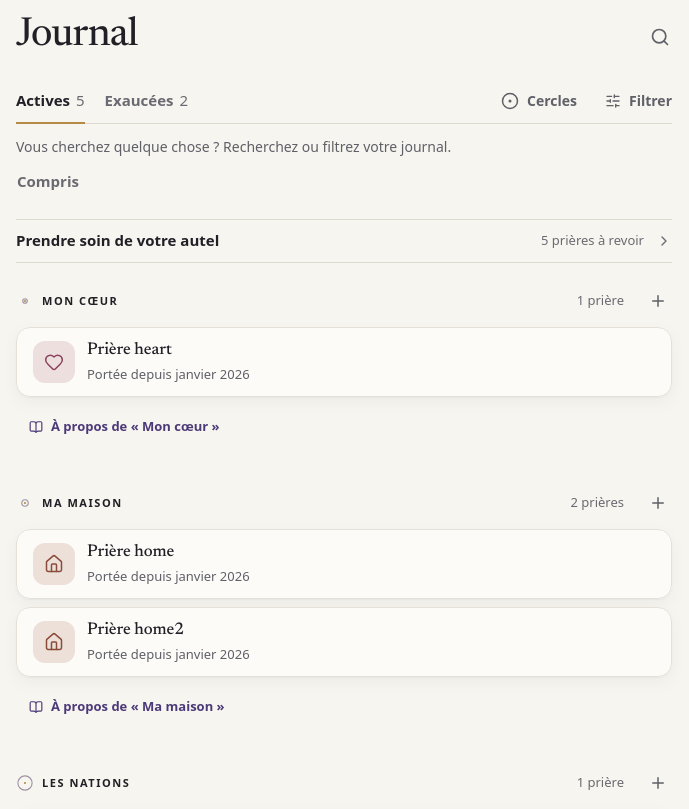
Scenario: PrayersTab — By circle › remembers where an answered prayer and its testimony belonged
Click the button "Exaucées2" at (146, 102), box [105,80,188,124]
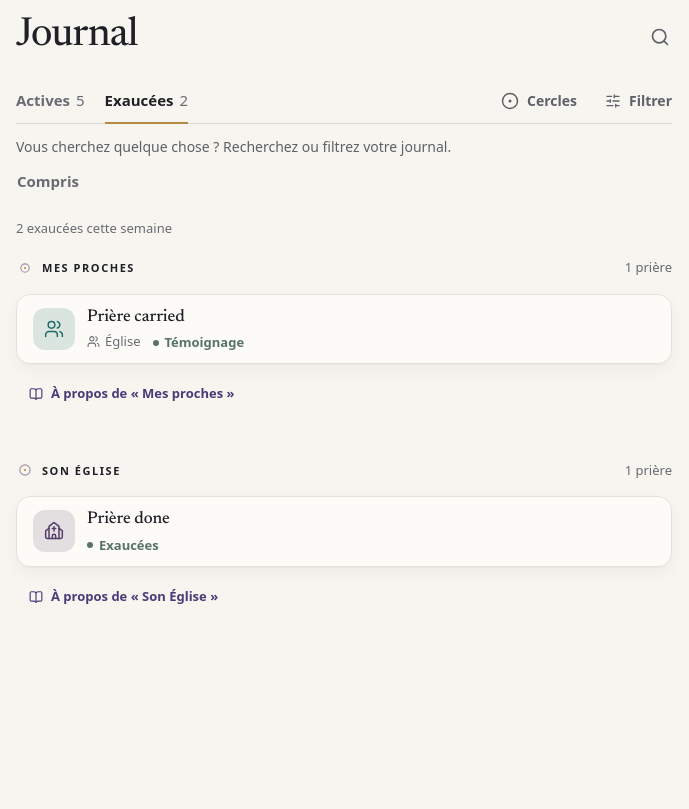
Click the button "Cercles" at (539, 101), box [489,79,589,123]
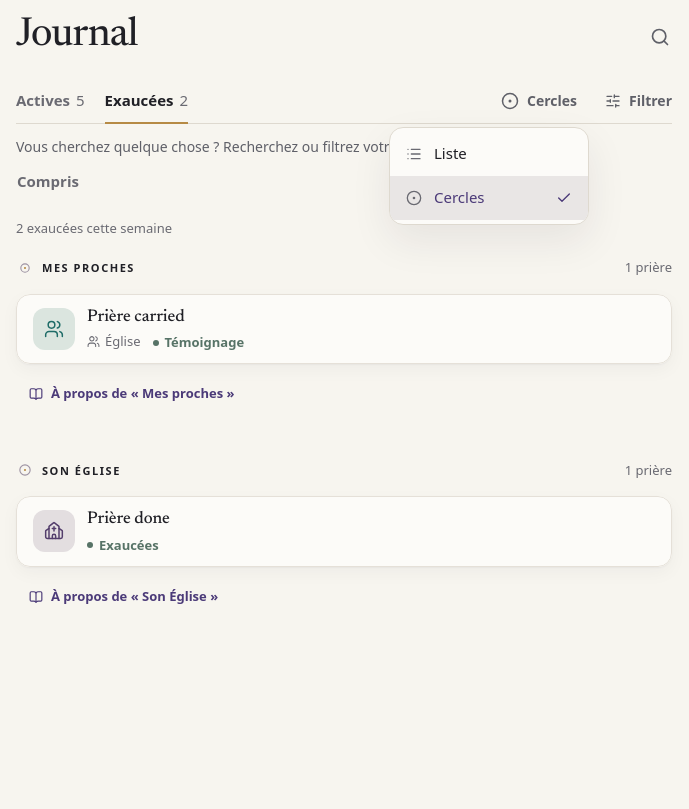
Click the menu item "Liste" at (489, 154), box [390,132,588,176]
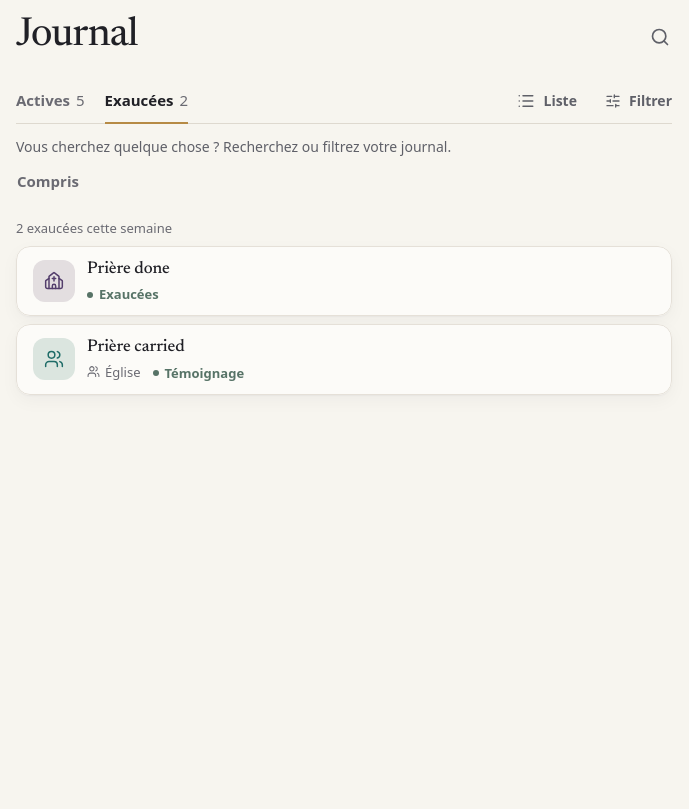
Result: the text "Témoignage" is shown at [152,365,244,382]
